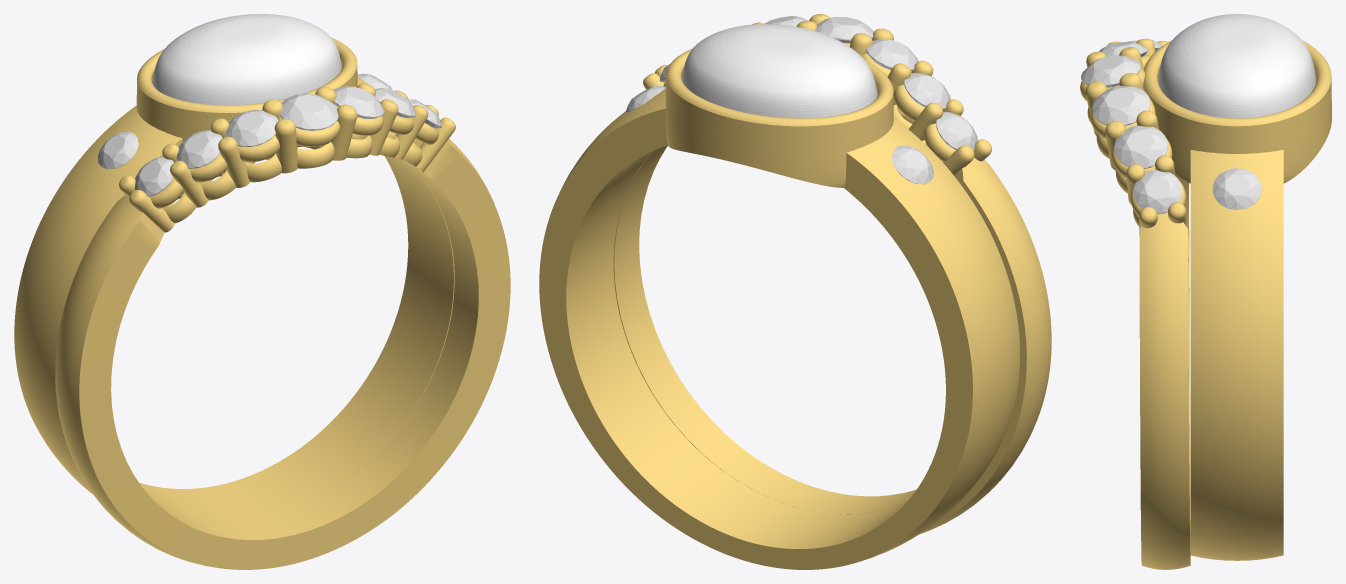
The model's file is NancyYG.glb.
3 views of the same model, side by side, from view 1: azimuth 30°, elevation 25°; view 2: azimuth 150°, elevation 25°; view 3: azimuth 270°, elevation 25° (orthographic). The views are drawn at different scales.
Parts seen in each view (by area): view 1: Nancy YG for 3d model, Nancy jade for 3d model, Nancy dia for 3d model.003, Nancy dia for 3d model.004, Nancy dia for 3d model.005, Nancy dia for 3d model.007, Nancy dia for 3d model.006, Nancy dia for 3d model.002; view 2: Nancy YG for 3d model, Nancy jade for 3d model, Nancy dia for 3d model.007, Nancy dia for 3d model.005, Nancy dia for 3d model.006, Nancy dia for 3d model.004, Nancy dia for 3d model.003; view 3: Nancy YG for 3d model, Nancy jade for 3d model, Nancy dia for 3d model.001, Nancy dia for 3d model.002, Nancy dia for 3d model.008, Nancy dia for 3d model, Nancy dia for 3d model.003, Nancy dia for 3d model.004.
Boxes of the visible parts, box(x1,y1,x2,y2) form: Nancy YG for 3d model: box(14, 38, 510, 569); Nancy jade for 3d model: box(152, 14, 341, 105); Nancy dia for 3d model.003: box(280, 94, 338, 130); Nancy dia for 3d model.004: box(225, 109, 278, 146); Nancy dia for 3d model.005: box(176, 130, 222, 168); Nancy dia for 3d model.007: box(98, 131, 138, 168); Nancy dia for 3d model.006: box(134, 156, 173, 196); Nancy dia for 3d model.002: box(333, 86, 384, 118); Nancy YG for 3d model: box(539, 14, 1051, 569); Nancy jade for 3d model: box(682, 24, 877, 118); Nancy dia for 3d model.007: box(891, 145, 933, 184); Nancy dia for 3d model.005: box(904, 73, 950, 109); Nancy dia for 3d model.006: box(936, 112, 977, 150); Nancy dia for 3d model.004: box(866, 39, 918, 70); Nancy dia for 3d model.003: box(815, 16, 873, 43); Nancy YG for 3d model: box(1080, 38, 1331, 569); Nancy jade for 3d model: box(1158, 14, 1316, 118); Nancy dia for 3d model.001: box(1114, 125, 1167, 168); Nancy dia for 3d model.002: box(1092, 86, 1150, 125); Nancy dia for 3d model.008: box(1212, 168, 1261, 209); Nancy dia for 3d model: box(1133, 170, 1182, 213); Nancy dia for 3d model.003: box(1081, 55, 1140, 87); Nancy dia for 3d model.004: box(1099, 41, 1148, 56).
Size of the model in its own units: 21.1 by 23.03 by 10.31.
